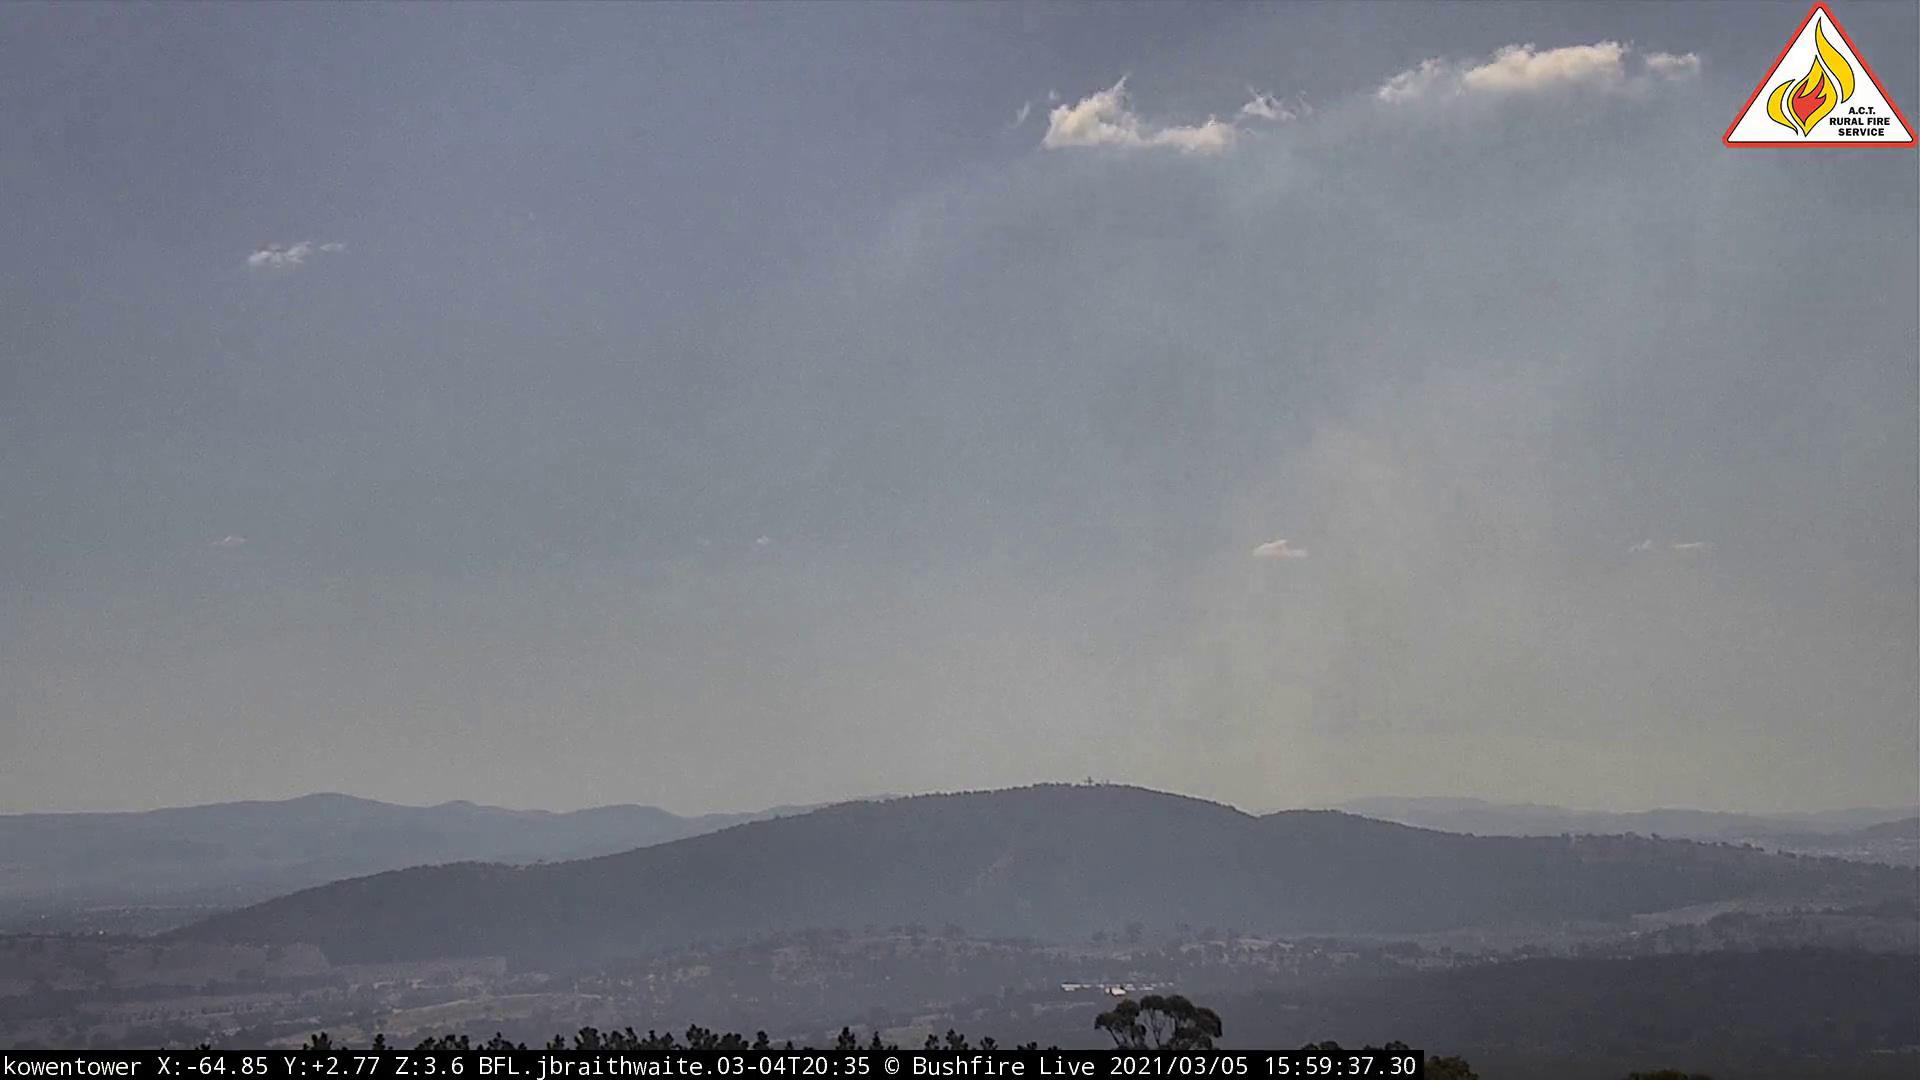Smoke: (1033, 173, 1857, 818)
